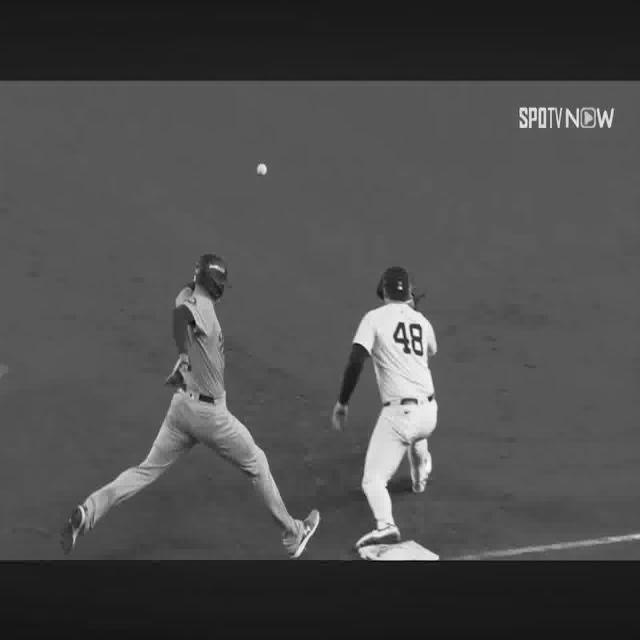base: (359, 540, 439, 562)
baseball: (257, 164, 267, 173)
shoe: (281, 510, 320, 560), (355, 523, 401, 550), (61, 505, 84, 555), (411, 450, 432, 493)
